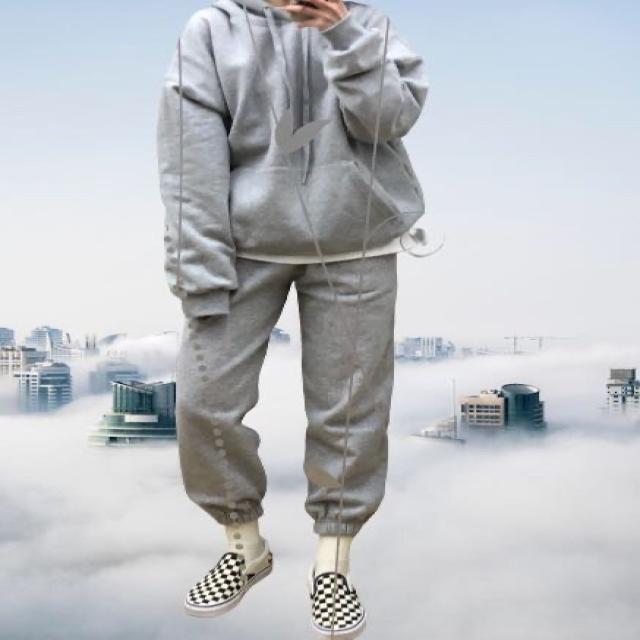hoodies: (156, 0, 424, 318)
trainingpants: (176, 254, 397, 538)
